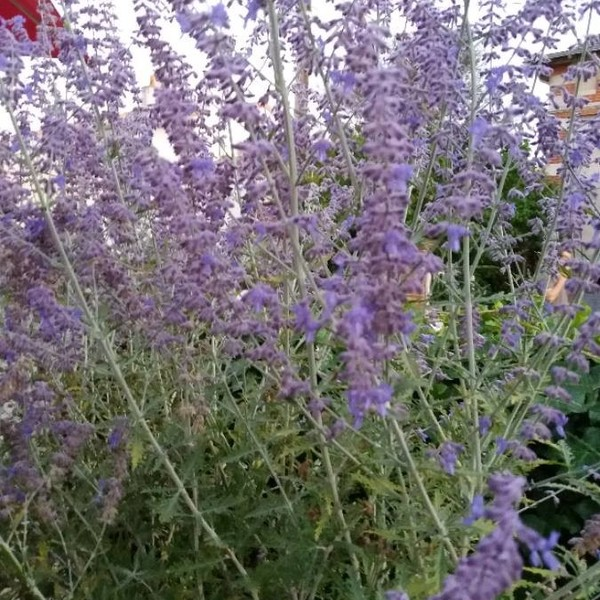obstacle: (94, 63, 496, 503)
